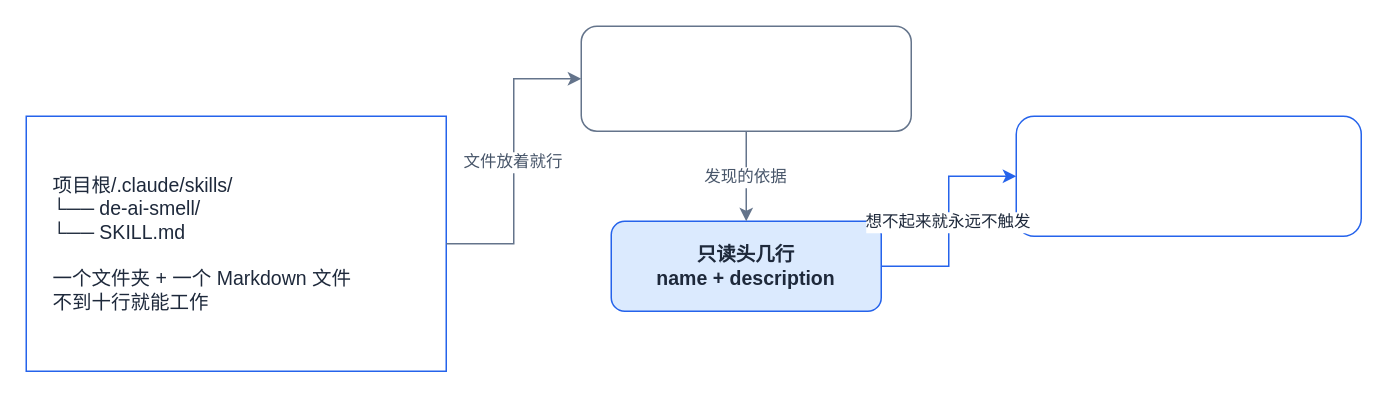
Some shapes in this 1388 by 398 pixel diagram are drawn without their labels. The centre of each missing label's shape, as x and y in pixels:
Claude Code 启动时扫描目录 不需要注册，不需要改配置: point 745,78
对话开始时拿 description 做路由 任务匹配就加载整个 skill 正文: point 1188,175
